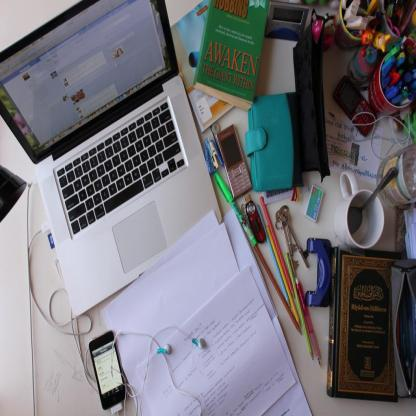board: (0, 0, 221, 320)
